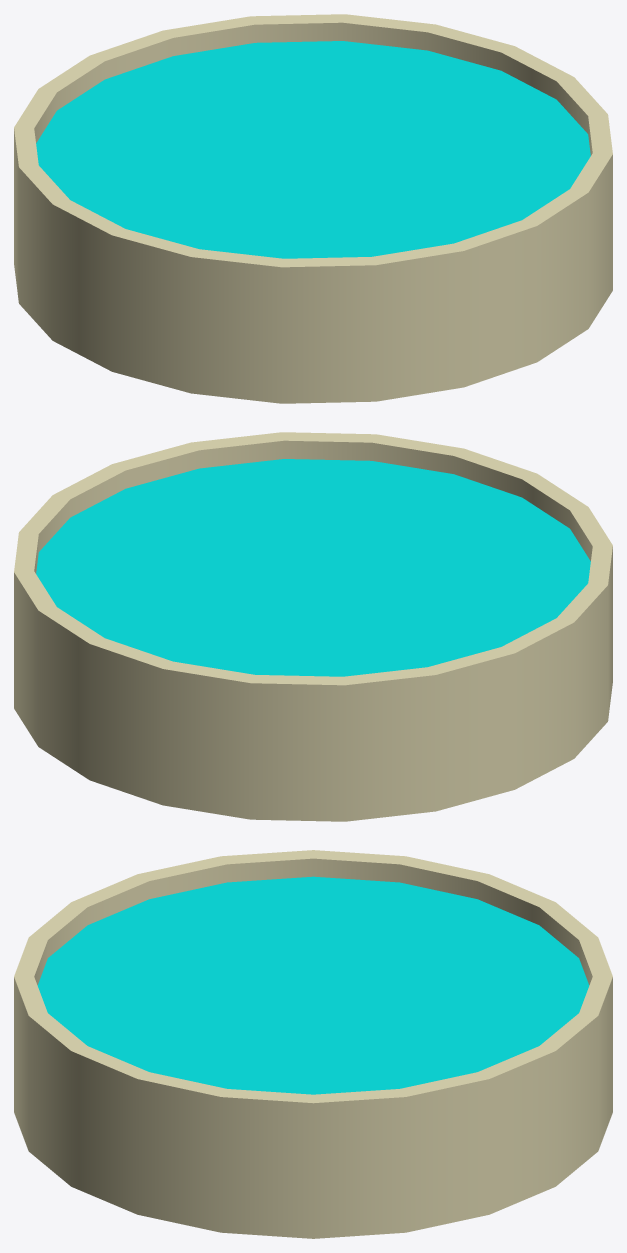
Rendered from SM_KiddyPool_01.fbx.
3 views of the same model, one above another, from view 1: azimuth 30°, elevation 25°; view 2: azimuth 150°, elevation 25°; view 3: azimuth 270°, elevation 25° (orthographic).
Parts seen in each view (by area): view 1: SM_KiddyPool_01; view 2: SM_KiddyPool_01; view 3: SM_KiddyPool_01.
Part boxes in pixels (x1,y1,x2,y2): SM_KiddyPool_01: [14, 14, 612, 403]; SM_KiddyPool_01: [14, 432, 612, 821]; SM_KiddyPool_01: [14, 850, 612, 1238].
Bounding box in the file's own units: 600 × 150 × 600.
